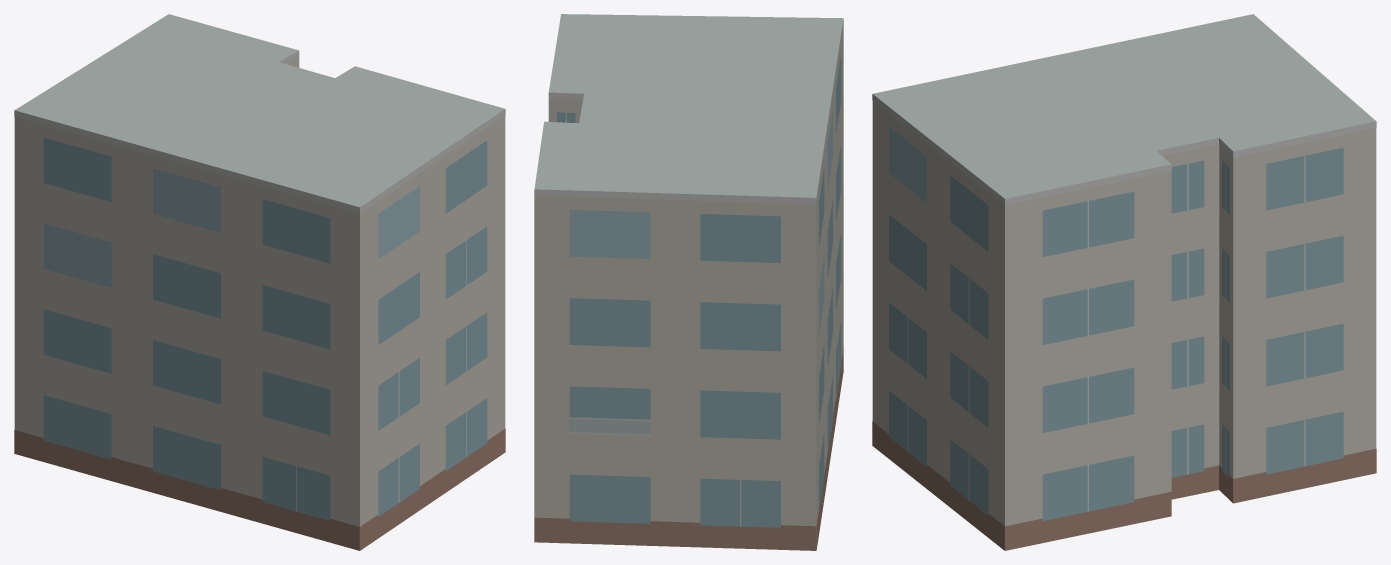
Rendered from survey-upis-32741633.glb.
The picture shows the model from 3 angles, left to right: view 1: azimuth 30°, elevation 25°; view 2: azimuth 150°, elevation 25°; view 3: azimuth 270°, elevation 25°; orthographic projection. The views are drawn at different scales.
Visible parts, largest first — view 1: survey-upis-32741633.tmp; view 2: survey-upis-32741633.tmp; view 3: survey-upis-32741633.tmp.
Part boxes in pixels (x1,y1,x2,y2): survey-upis-32741633.tmp: (14,14,505,550); survey-upis-32741633.tmp: (534,14,843,550); survey-upis-32741633.tmp: (872,14,1376,550).
Bounding box in the file's own units: 14.65 × 13 × 16.88.
